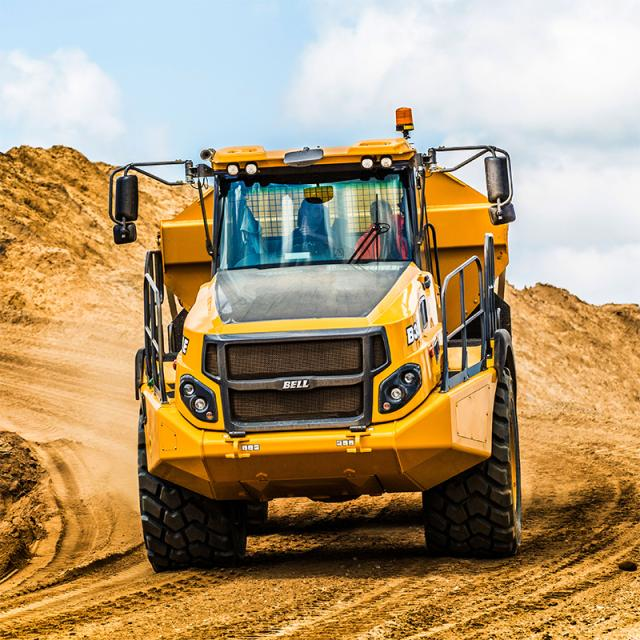dump_truck: (100, 120, 542, 574)
